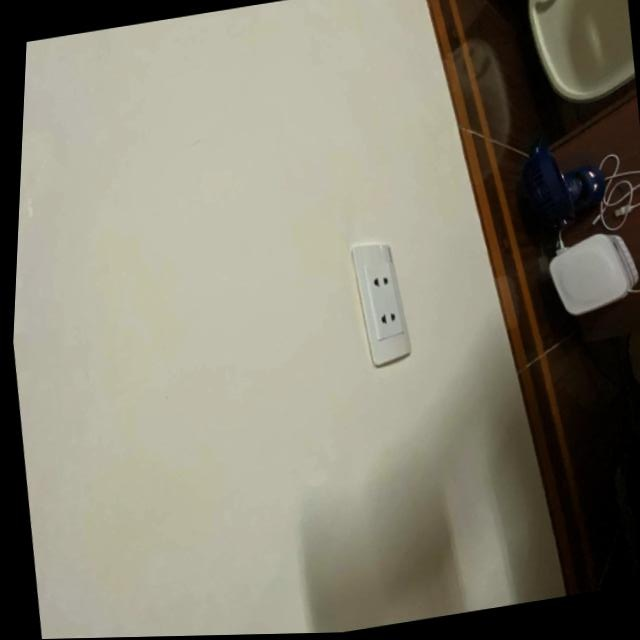outlet: (345, 238, 417, 371)
